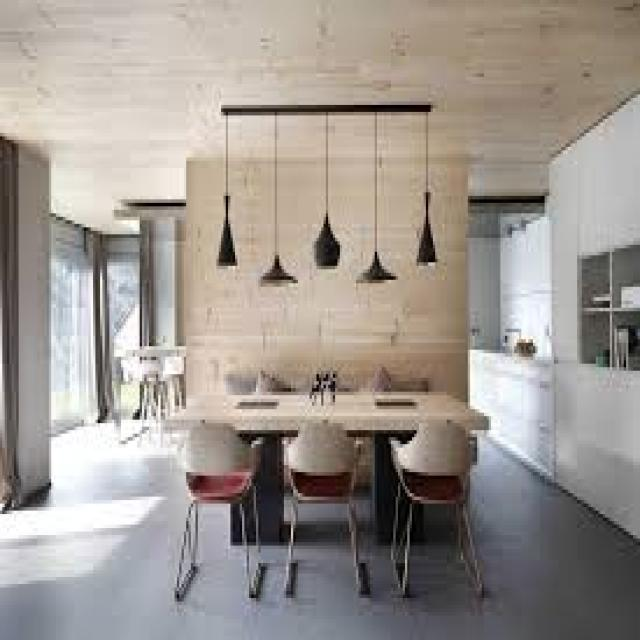Chair: (168, 422, 269, 617), (388, 422, 485, 621), (279, 412, 372, 608)
Lamp: (208, 190, 245, 275), (306, 214, 349, 276), (354, 243, 402, 297), (256, 240, 299, 295), (420, 186, 445, 278)
Table: (179, 373, 483, 558), (130, 356, 176, 436)
